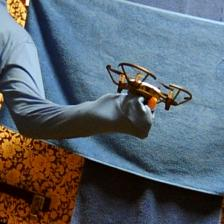drone: (105, 62, 192, 113)
